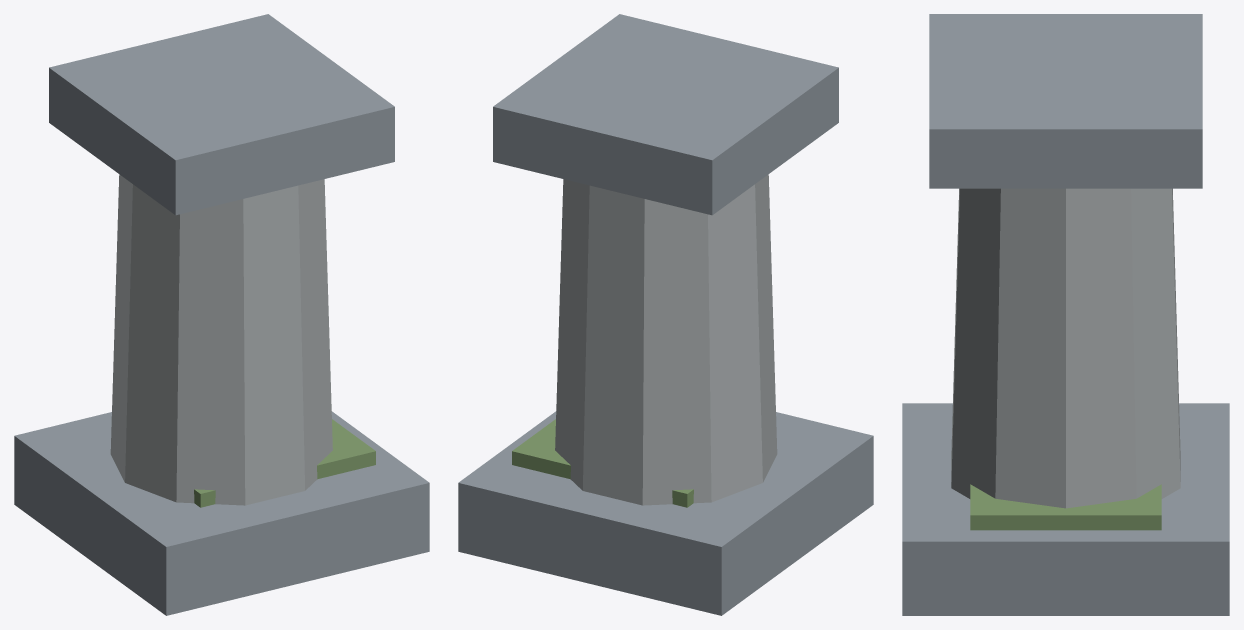
Rendered from ruin_column_half.glb.
3 renders of one model, left to right at view 1: azimuth 30°, elevation 25°; view 2: azimuth 150°, elevation 25°; view 3: azimuth 270°, elevation 25°, orthographic. The views are drawn at different scales.
Visible parts, largest first — view 1: ruin_column_half_Mesh; view 2: ruin_column_half_Mesh; view 3: ruin_column_half_Mesh.
Part boxes in pixels (x1,y1,x2,y2): ruin_column_half_Mesh: (14,14,429,615); ruin_column_half_Mesh: (458,14,873,615); ruin_column_half_Mesh: (902,14,1229,615).
Bounding box in the file's own units: 1.2 × 1.92 × 1.2.
